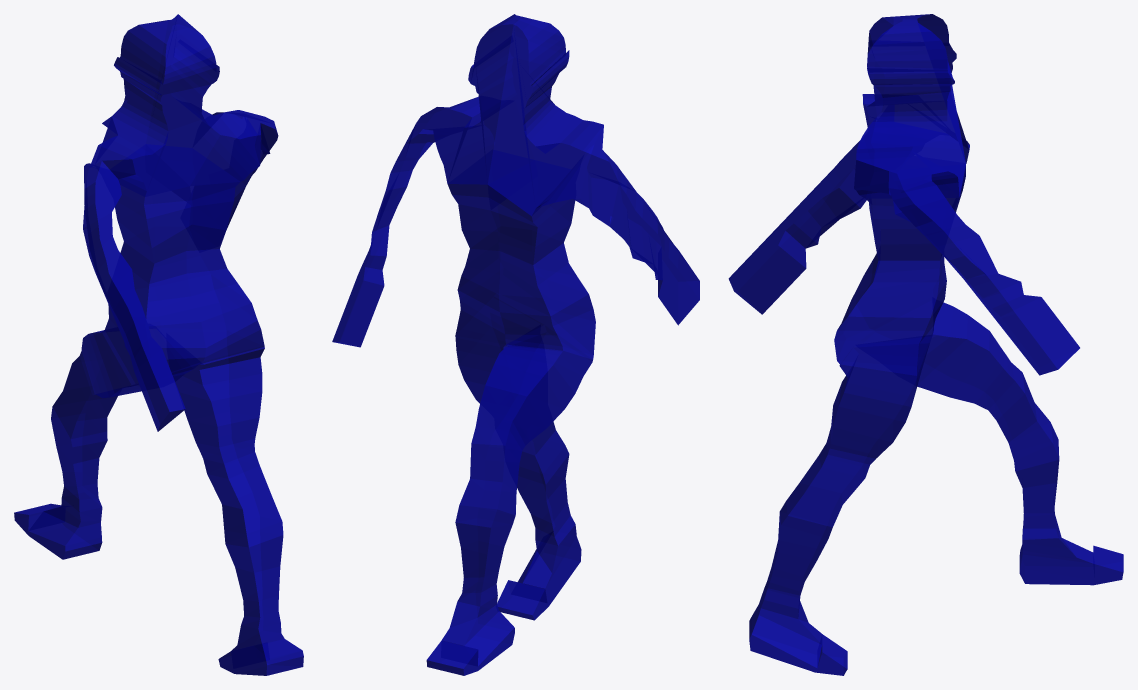
File: woman_000020.obj
3 views of the same model, side by side, from view 1: azimuth 30°, elevation 25°; view 2: azimuth 150°, elevation 25°; view 3: azimuth 270°, elevation 25° (orthographic).
Parts seen in each view (by area): view 1: Cube_Cube.001; view 2: Cube_Cube.001; view 3: Cube_Cube.001.
Boxes of the visible parts, x1,y1,x2,y2 form: Cube_Cube.001: [14, 14, 303, 675]; Cube_Cube.001: [332, 14, 699, 675]; Cube_Cube.001: [728, 14, 1123, 675].
Bounding box in the file's own units: 3.62 × 9.96 × 5.65.
